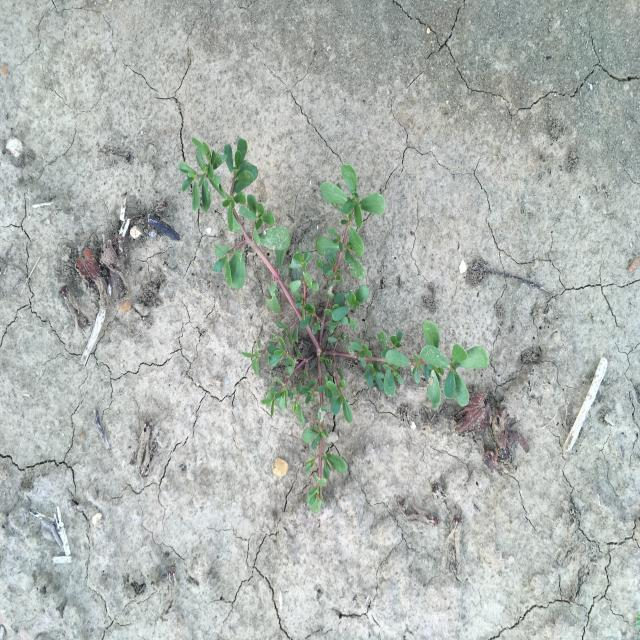Purslane: (177, 136, 491, 516)
